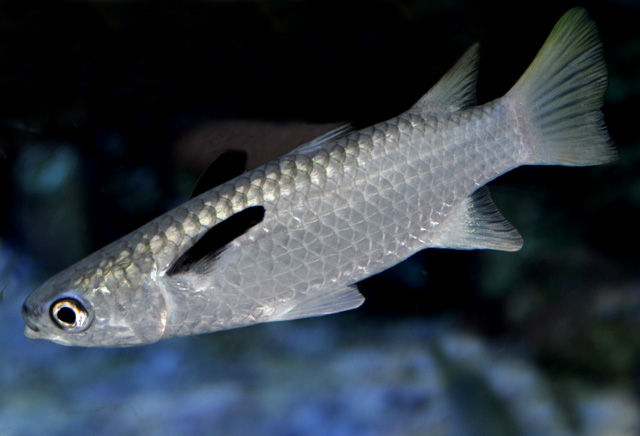fish: (21, 8, 617, 348)
